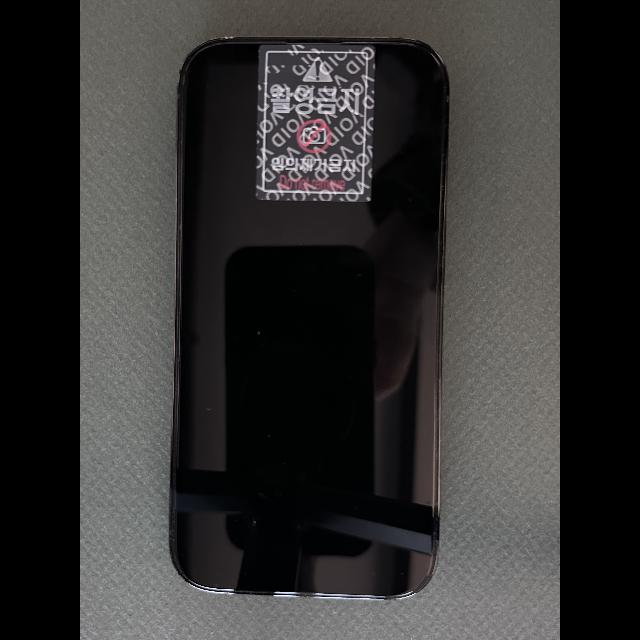phone: (167, 36, 451, 602)
sticker: (256, 44, 376, 203)
